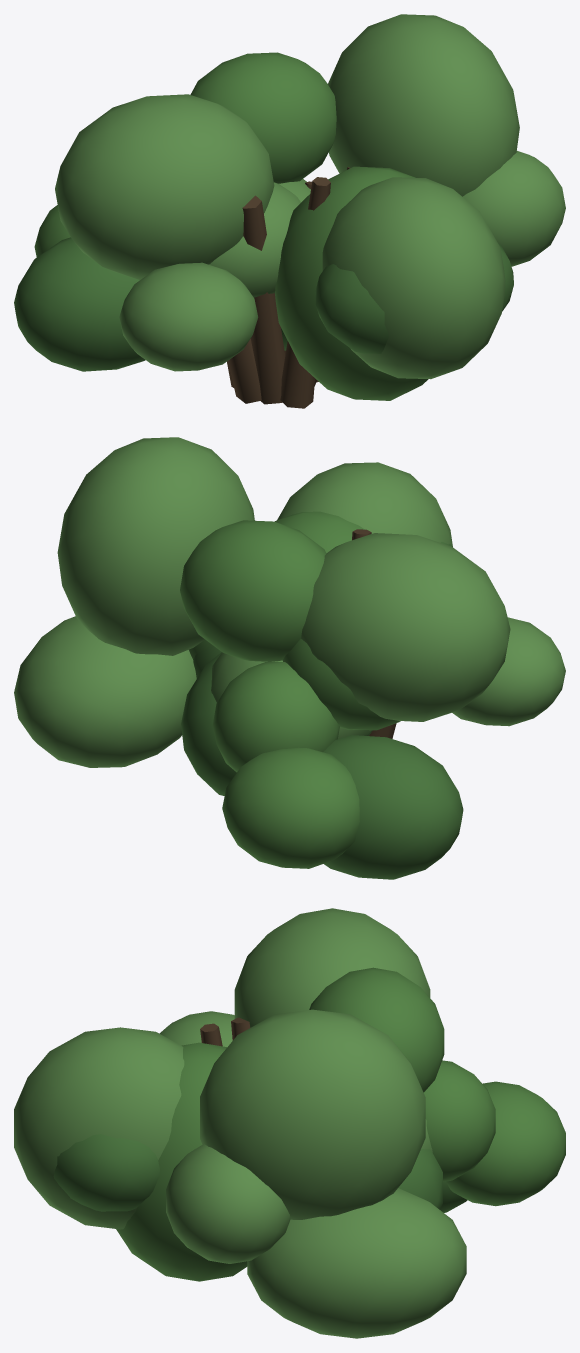
The model's file is shrub_lush_high.glb.
3 views of the same model, one above another, from view 1: azimuth 30°, elevation 25°; view 2: azimuth 150°, elevation 25°; view 3: azimuth 270°, elevation 25° (orthographic).
Size of the model in its own units: 2.1 by 1.44 by 2.22.
